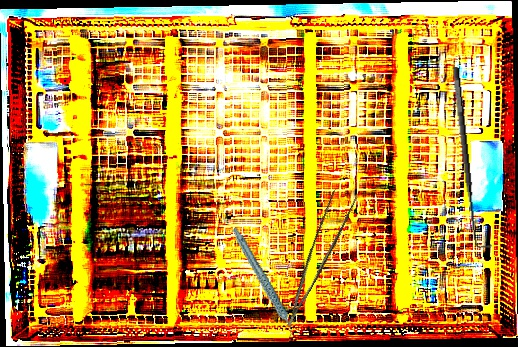Handpiece: (231, 220, 295, 345)
Hook Surgical: (450, 65, 493, 252)
Tissue Forceps: (266, 184, 362, 327)
